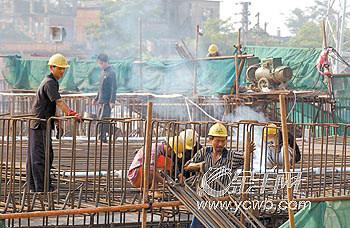helmet: (260, 123, 284, 146), (179, 128, 207, 147), (169, 135, 190, 158), (48, 55, 70, 69), (210, 125, 229, 138), (211, 45, 220, 54)
